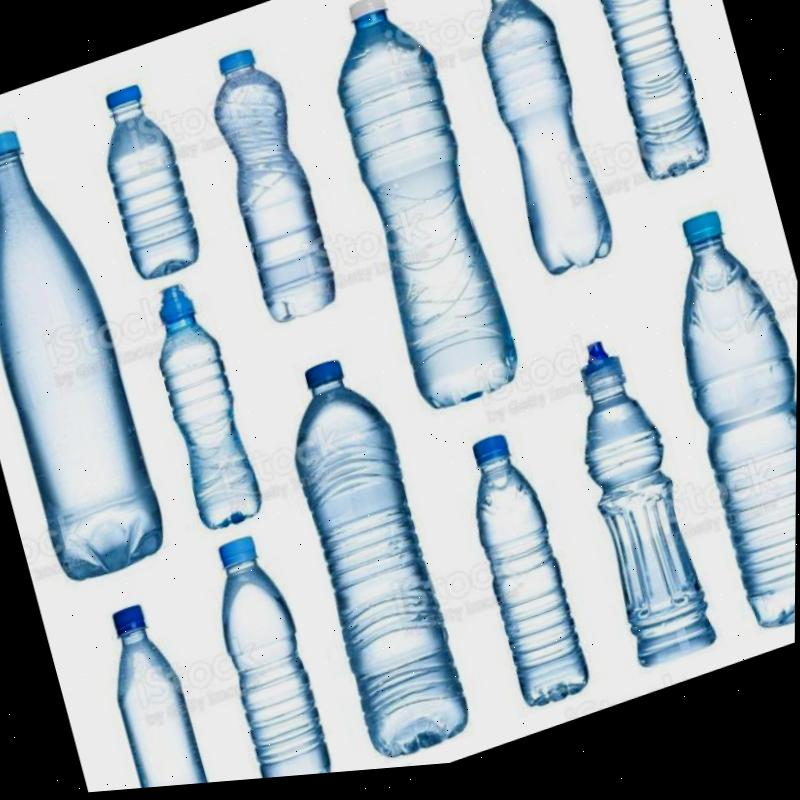botella: (309, 0, 526, 431), (268, 348, 475, 779), (0, 107, 169, 596), (644, 205, 799, 657), (551, 330, 726, 688), (455, 0, 622, 298), (194, 36, 344, 337), (452, 429, 596, 723), (197, 525, 341, 787), (135, 272, 268, 541), (575, 0, 715, 202), (84, 73, 207, 287), (95, 593, 218, 794)
